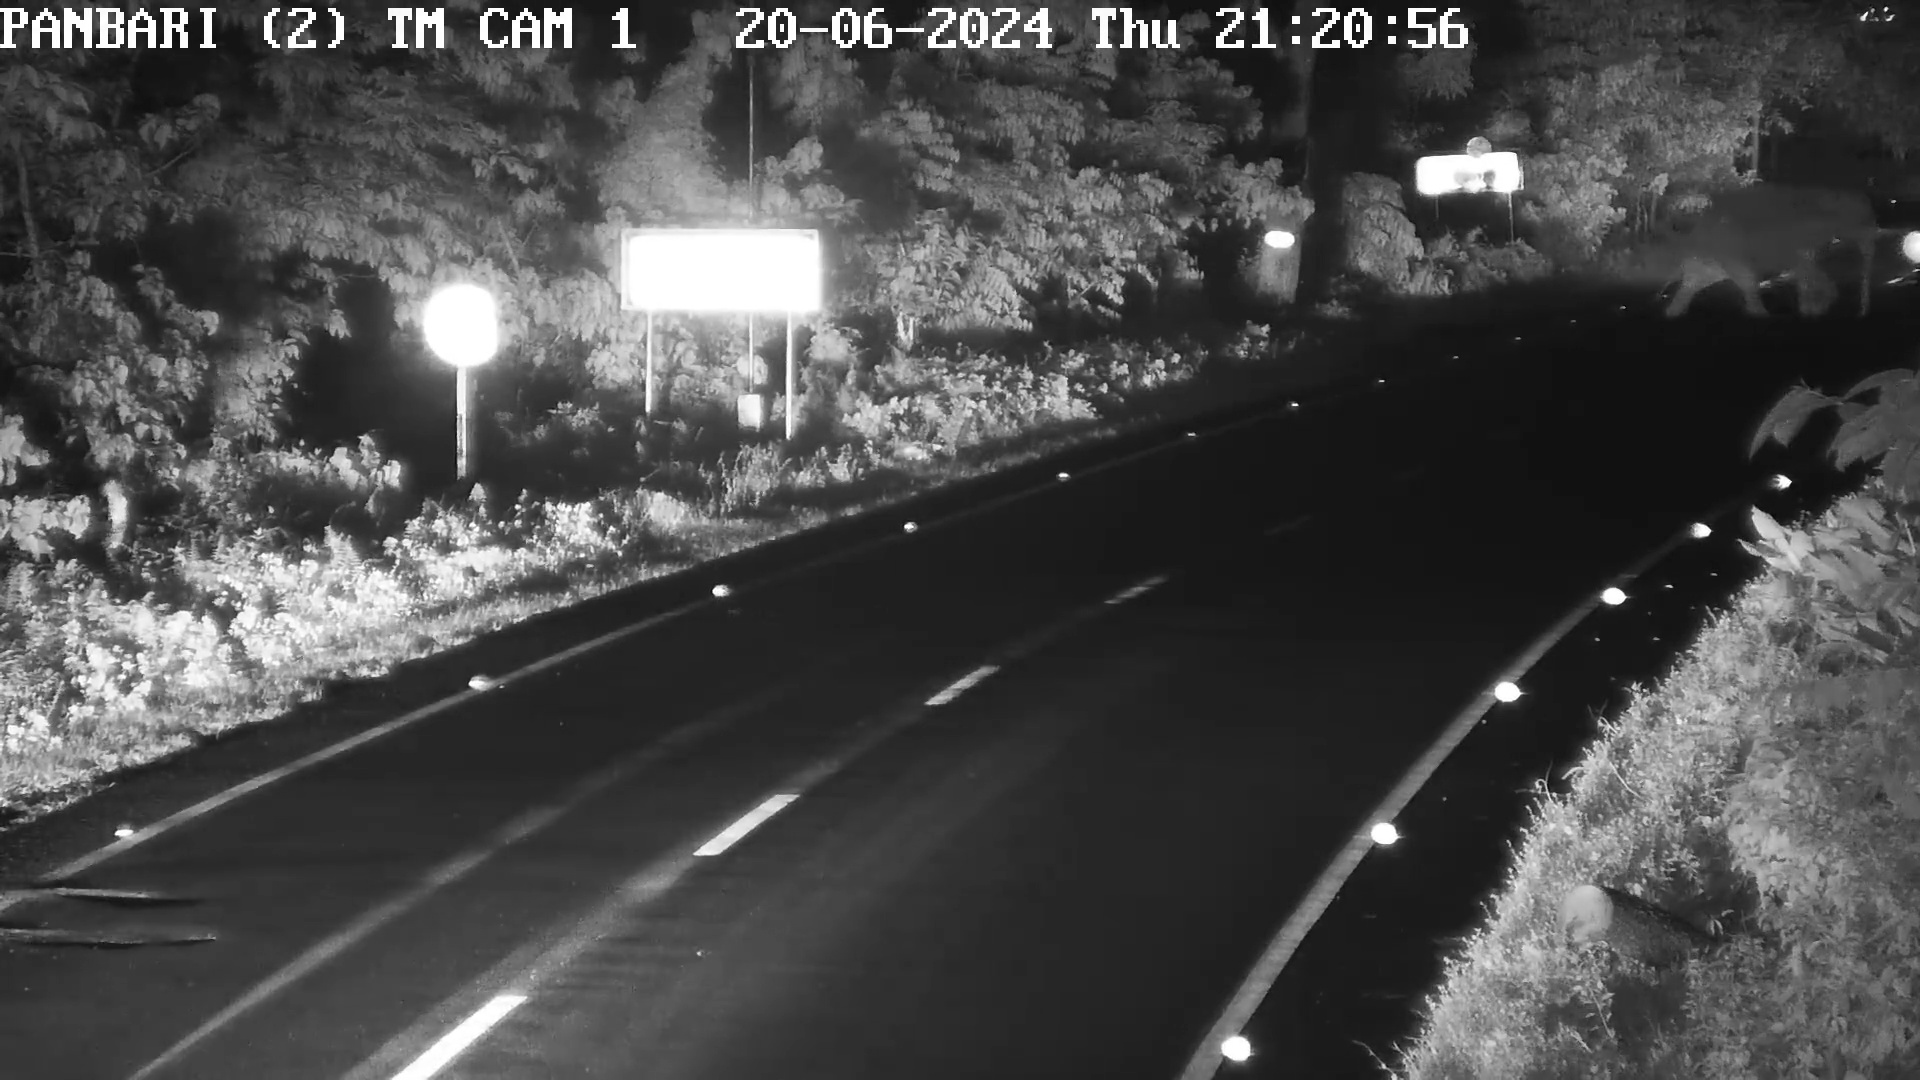elephants: (1668, 178, 1883, 328)
